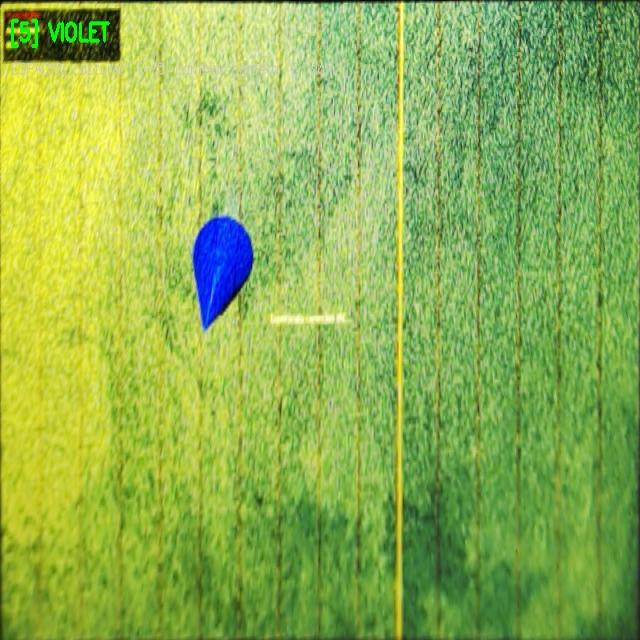violet: (193, 216, 252, 329)
